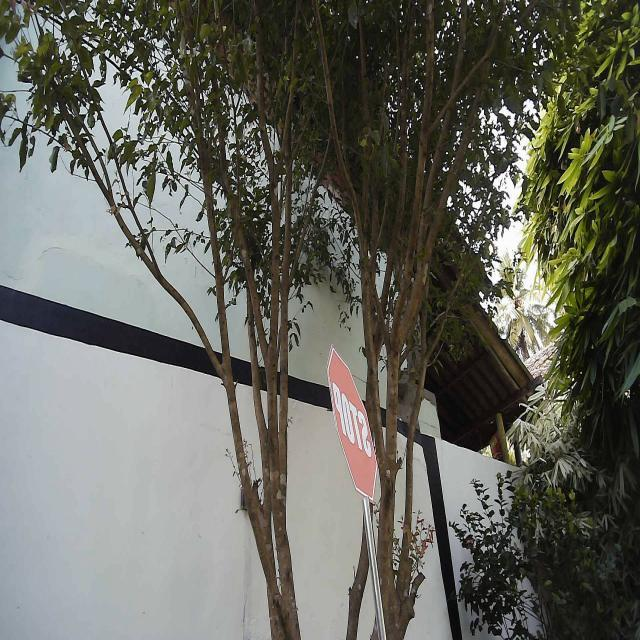stop: (325, 340, 380, 506)
